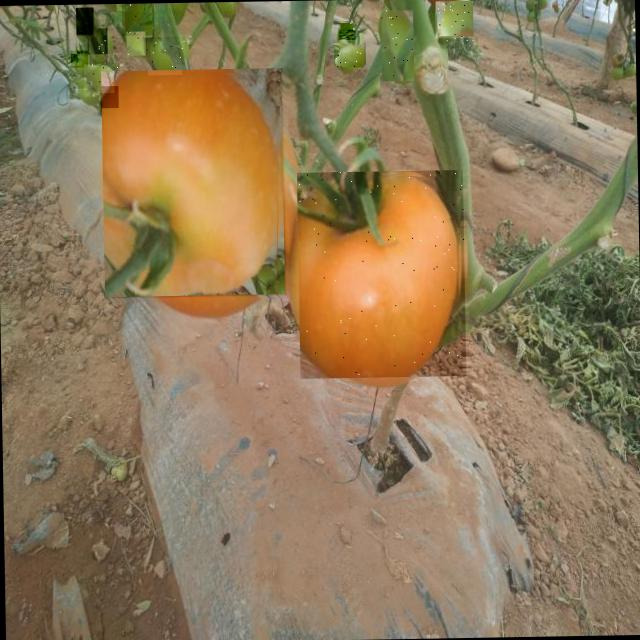Ripe Tomato: (101, 68, 289, 301), (296, 170, 468, 378)
Unripe Tomato: (381, 9, 414, 81), (435, 1, 474, 42), (151, 36, 186, 80), (84, 64, 118, 98), (121, 2, 154, 36), (336, 40, 364, 68), (76, 8, 97, 38), (126, 31, 148, 55), (87, 28, 107, 54), (100, 90, 122, 112), (70, 50, 88, 67), (338, 22, 355, 40), (73, 77, 87, 91)
